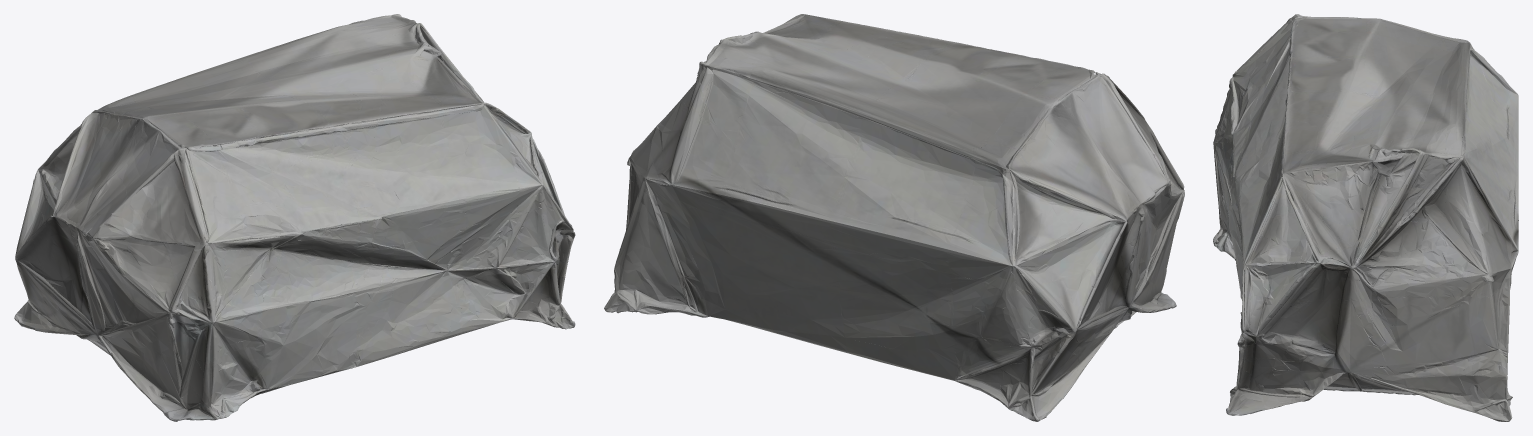
3 views of the same model, side by side, from view 1: azimuth 30°, elevation 25°; view 2: azimuth 150°, elevation 25°; view 3: azimuth 270°, elevation 25° (orthographic). The views are drawn at different scales.
Visible parts, largest first — view 1: geometry_0; view 2: geometry_0; view 3: geometry_0.
Boxes of the visible parts, x1,y1,x2,y2 form: geometry_0: [14, 14, 575, 421]; geometry_0: [604, 14, 1184, 421]; geometry_0: [1213, 14, 1518, 421].
Size of the model in its own units: 1.02 by 0.5394 by 0.6208.
1 material, 1 textured.
